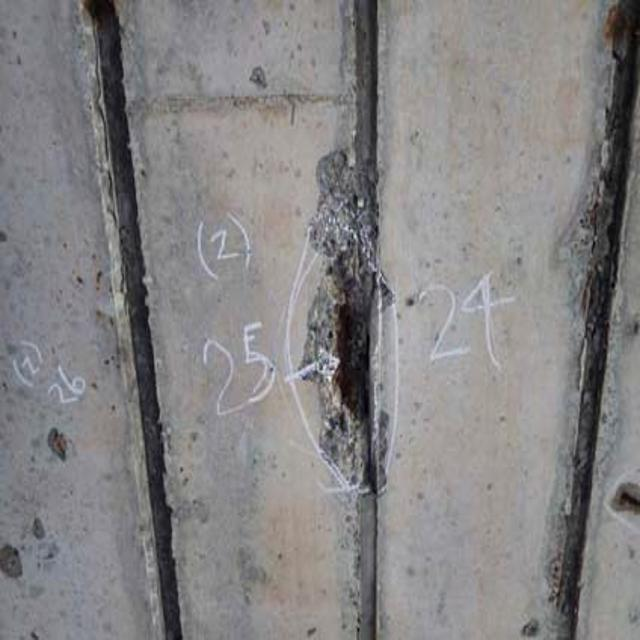spalling: (296, 133, 400, 504)
